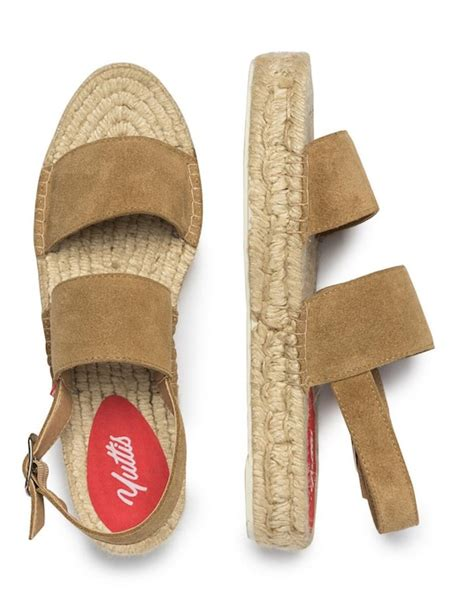gamuza: (27, 132, 424, 535)
